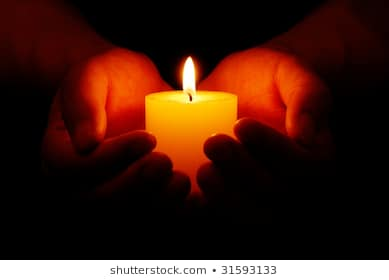Fire: (181, 55, 196, 101)
